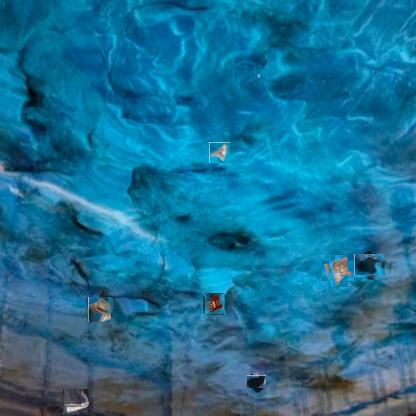dirty: (63, 389, 89, 415), (325, 258, 351, 284), (88, 297, 112, 322), (204, 293, 225, 315), (209, 142, 230, 163)
liquid: (357, 251, 383, 278), (248, 374, 265, 390)
